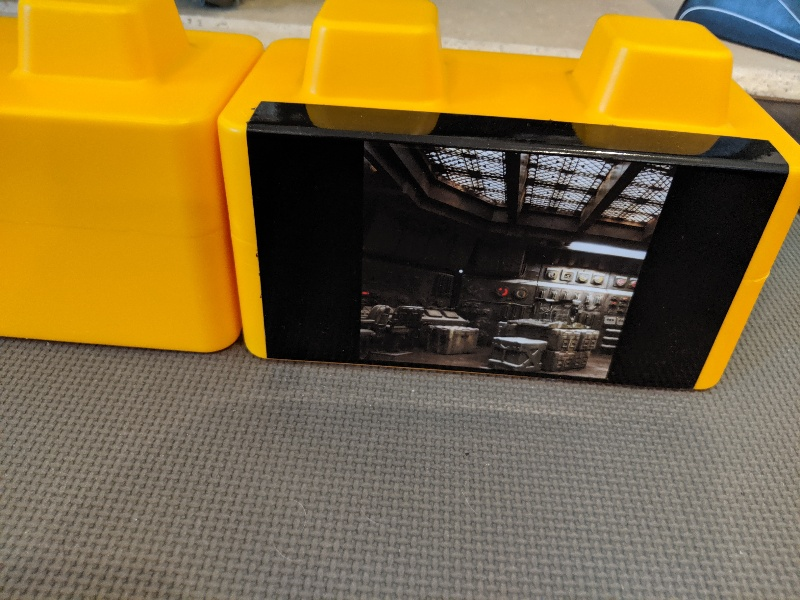Skystone: (228, 86, 790, 395)
